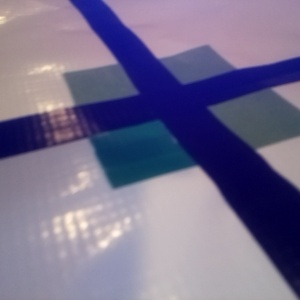bottom_left: (1, 33, 71, 68)
bottom_right: (30, 31, 124, 69)
